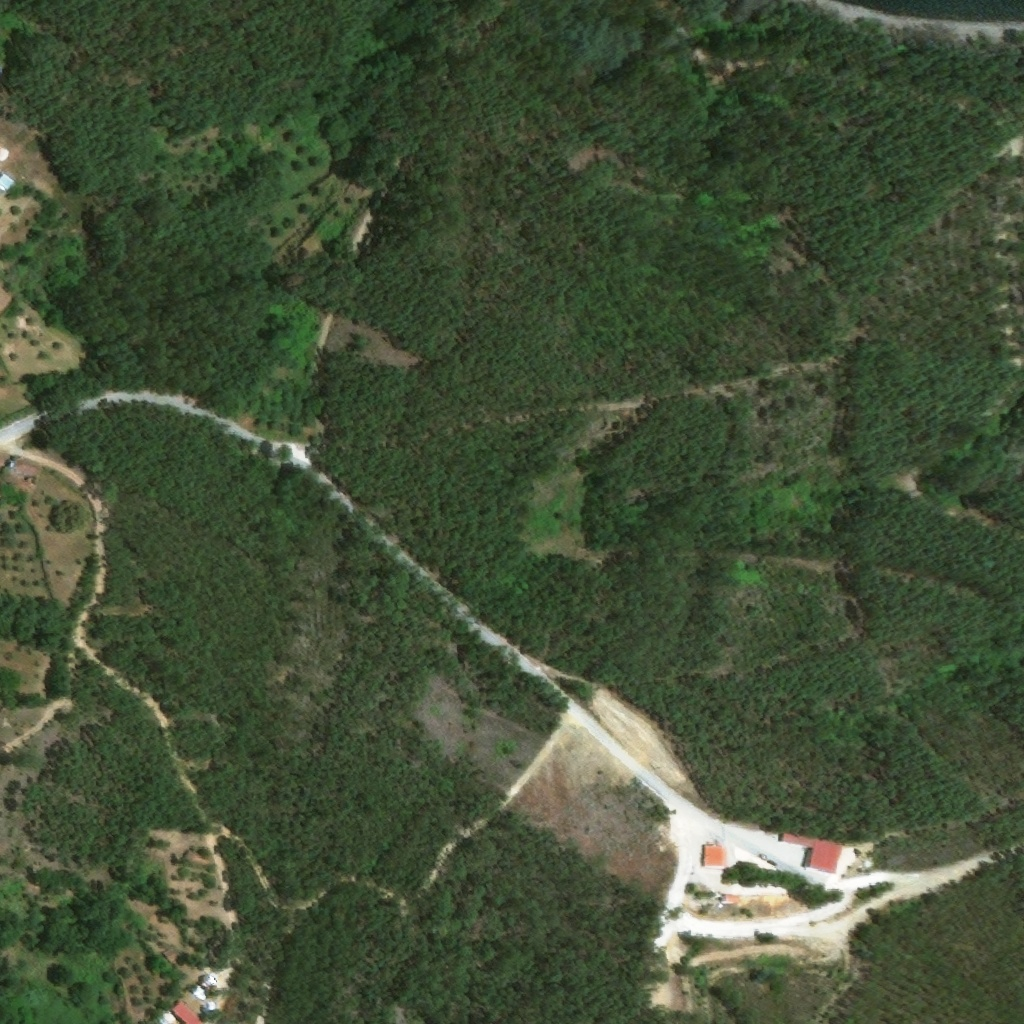0 no-damage: (779, 833, 844, 873), (702, 844, 723, 867), (13, 459, 40, 475), (162, 945, 182, 965), (0, 172, 15, 193)
